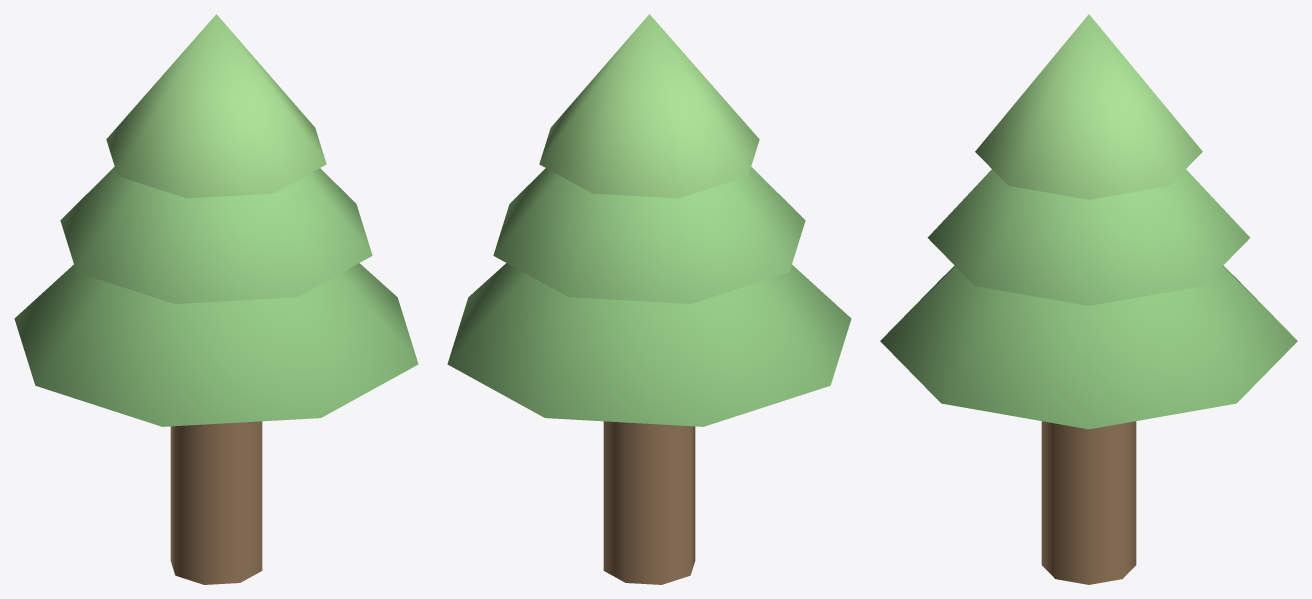
File: tree_01.glb
The picture shows the model from 3 angles, left to right: view 1: azimuth 30°, elevation 25°; view 2: azimuth 150°, elevation 25°; view 3: azimuth 270°, elevation 25°; orthographic projection.
Parts seen in each view (by area): view 1: tree_01_root; view 2: tree_01_root; view 3: tree_01_root.
Part boxes in pixels (left/top/right/bottom): tree_01_root: left=14, top=14, right=418, bottom=584; tree_01_root: left=447, top=14, right=851, bottom=584; tree_01_root: left=880, top=14, right=1297, bottom=584.
Bounding box in the file's own units: 22 × 32 × 22.
